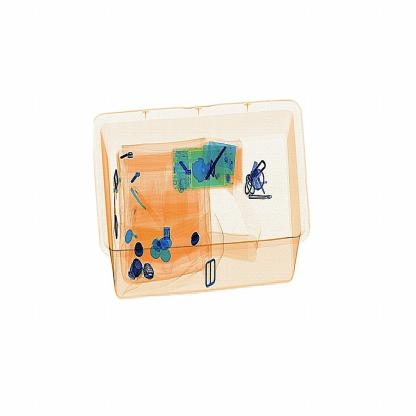knife: (194, 128, 234, 192)
